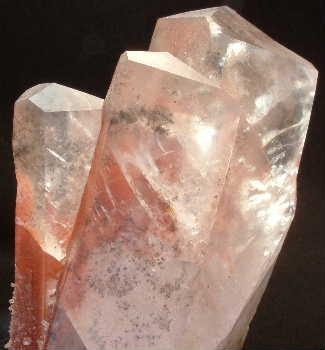calcite: (8, 7, 318, 350)
